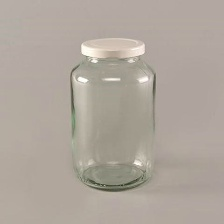bottle: (65, 34, 163, 197)
